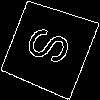S: (24, 23, 81, 71)
